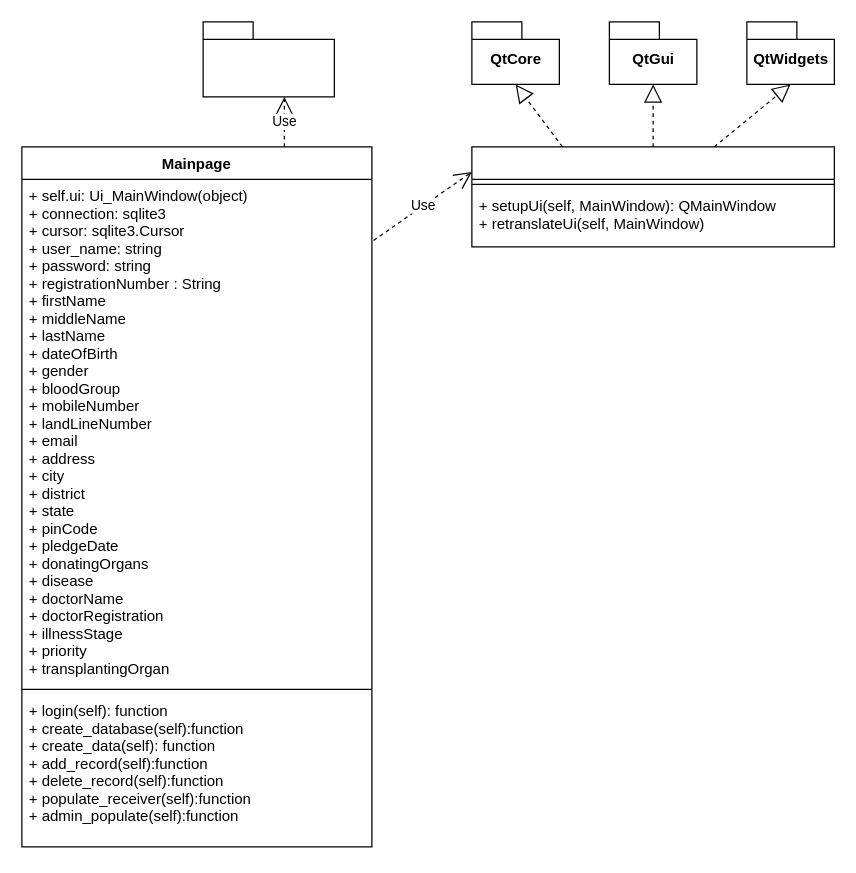
Some shapes in this 856 by 873 pixel diagram are drawn without their labels. Here are the shapes that lost their labels. From the top down, the box of each, then its label:
(202, 21, 334, 97): QMessageBox
(471, 146, 834, 247): Ui_MainWindow
